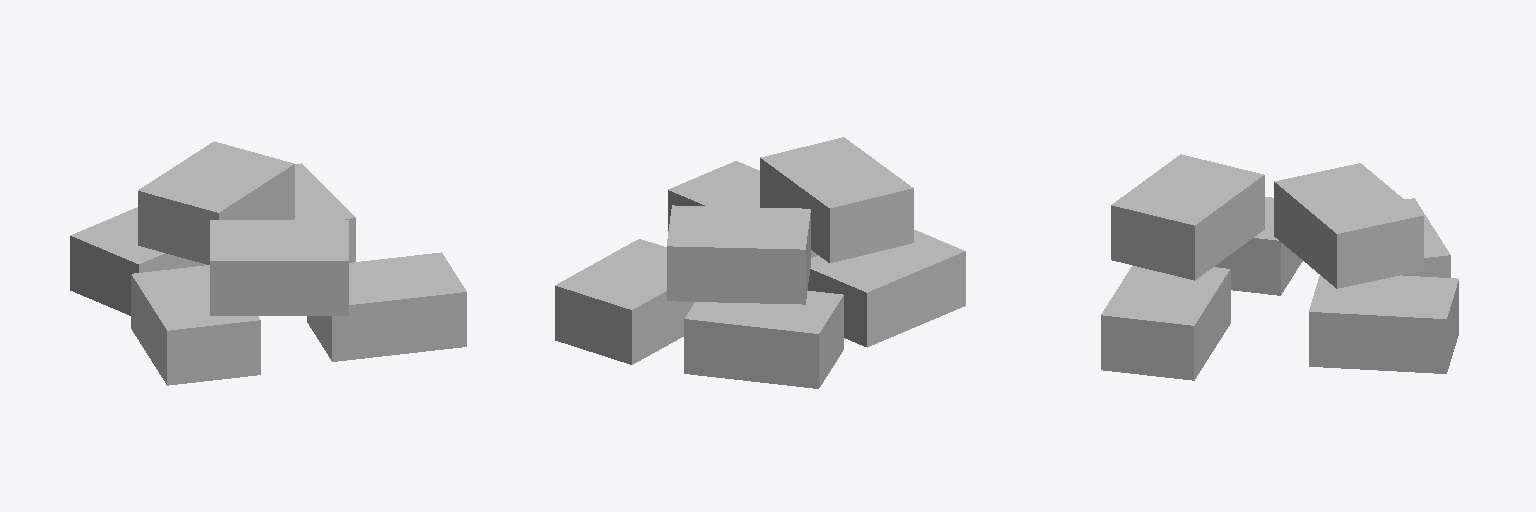
Rendered from debris.obj.
3 views of the same model, side by side, from view 1: azimuth 30°, elevation 25°; view 2: azimuth 150°, elevation 25°; view 3: azimuth 270°, elevation 25° (orthographic).
Parts seen in each view (by area): view 1: debris; view 2: debris; view 3: debris.
Boxes of the visible parts, box(x1,y1,x2,y2) form: debris: box(70, 141, 466, 385); debris: box(555, 137, 965, 388); debris: box(1101, 154, 1458, 380).
Size of the model in its own units: 4.36 by 1.6 by 4.73.